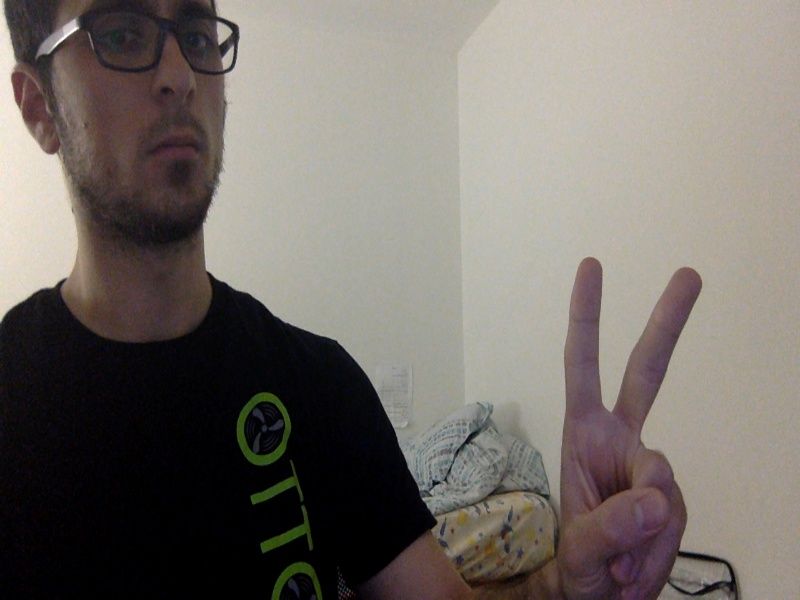2-hand: (559, 256, 704, 598)
